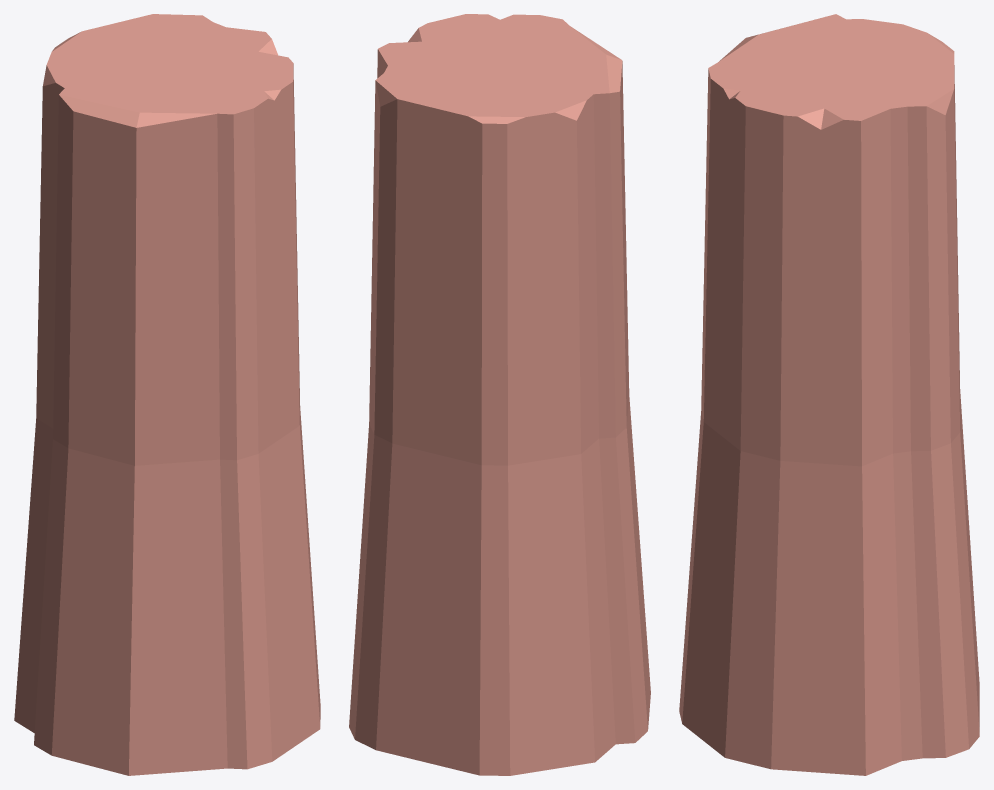
File: Cylinder_034_Vlad.fbx
3 renders of one model, left to right at view 1: azimuth 30°, elevation 25°; view 2: azimuth 150°, elevation 25°; view 3: azimuth 270°, elevation 25°, orthographic.
Parts seen in each view (by area): view 1: Cylinder.034; view 2: Cylinder.034; view 3: Cylinder.034.
Boxes of the visible parts, x1,y1,x2,y2 form: Cylinder.034: (14,14,320,775); Cylinder.034: (349,14,650,775); Cylinder.034: (679,14,979,775).
Size of the model in its own units: 218 by 500 by 212.
